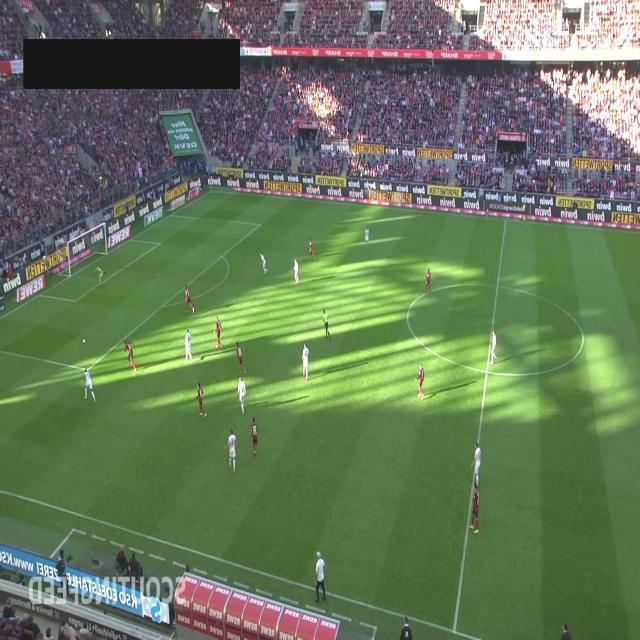ball: (82, 338, 86, 344)
goalkeeper: (92, 264, 106, 286)
player: (224, 428, 237, 472), (470, 483, 480, 533), (471, 442, 481, 488), (83, 368, 96, 403), (123, 341, 137, 373), (196, 382, 206, 418), (236, 342, 247, 374), (250, 417, 258, 458), (416, 363, 424, 401), (238, 376, 246, 414), (184, 284, 194, 314), (213, 316, 222, 349), (302, 343, 309, 381), (491, 330, 498, 364), (185, 329, 192, 361), (424, 268, 432, 293), (560, 622, 571, 640), (259, 252, 268, 274), (308, 237, 316, 259), (293, 258, 299, 285), (364, 226, 370, 248)
referee: (322, 308, 331, 341), (520, 200, 526, 222)
